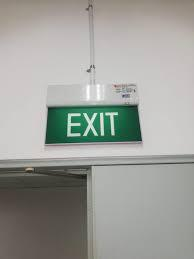exit: (0, 162, 193, 258)
lit_exit_sign: (46, 105, 141, 143)
